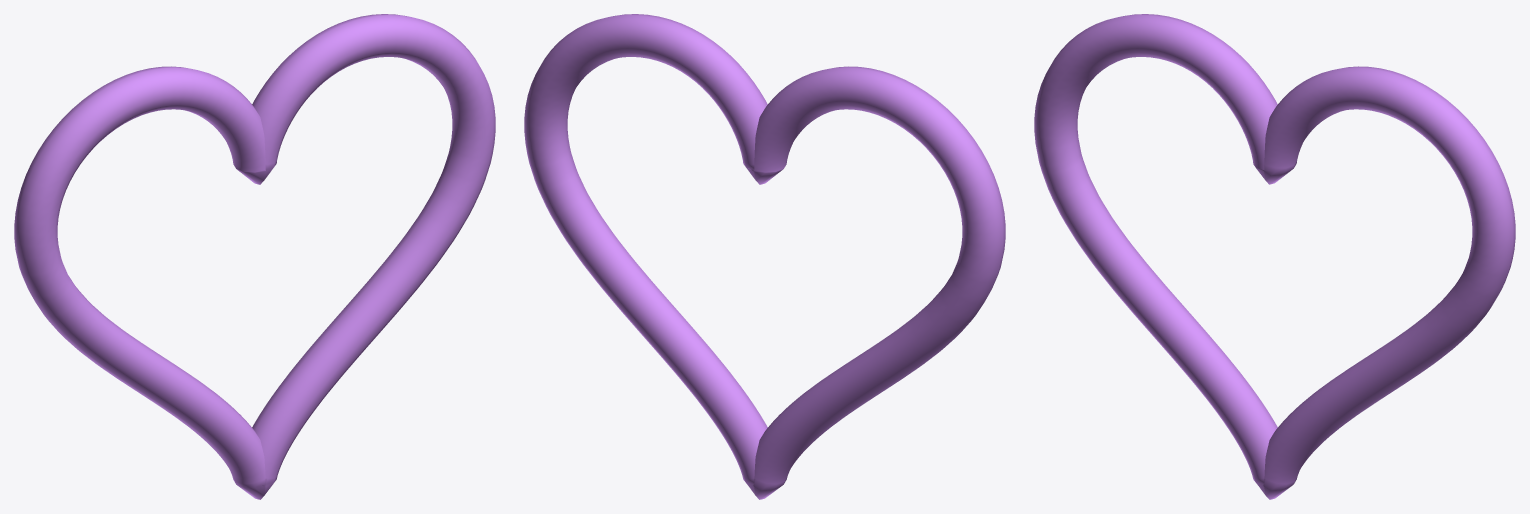
Rendered from heart-CJpIZFv7.glb.
3 views of the same model, side by side, from view 1: azimuth 30°, elevation 25°; view 2: azimuth 150°, elevation 25°; view 3: azimuth 330°, elevation 25° (orthographic).
Parts seen in each view (by area): view 1: R3D_heart_Body_0; view 2: R3D_heart_Body_0; view 3: R3D_heart_Body_0.
Part boxes in pixels (box(x1,y1,x2,y2)): R3D_heart_Body_0: box(14, 14, 495, 499); R3D_heart_Body_0: box(524, 14, 1005, 499); R3D_heart_Body_0: box(1034, 14, 1515, 499).
Size of the model in its own units: 2.28 by 2.08 by 0.18.
